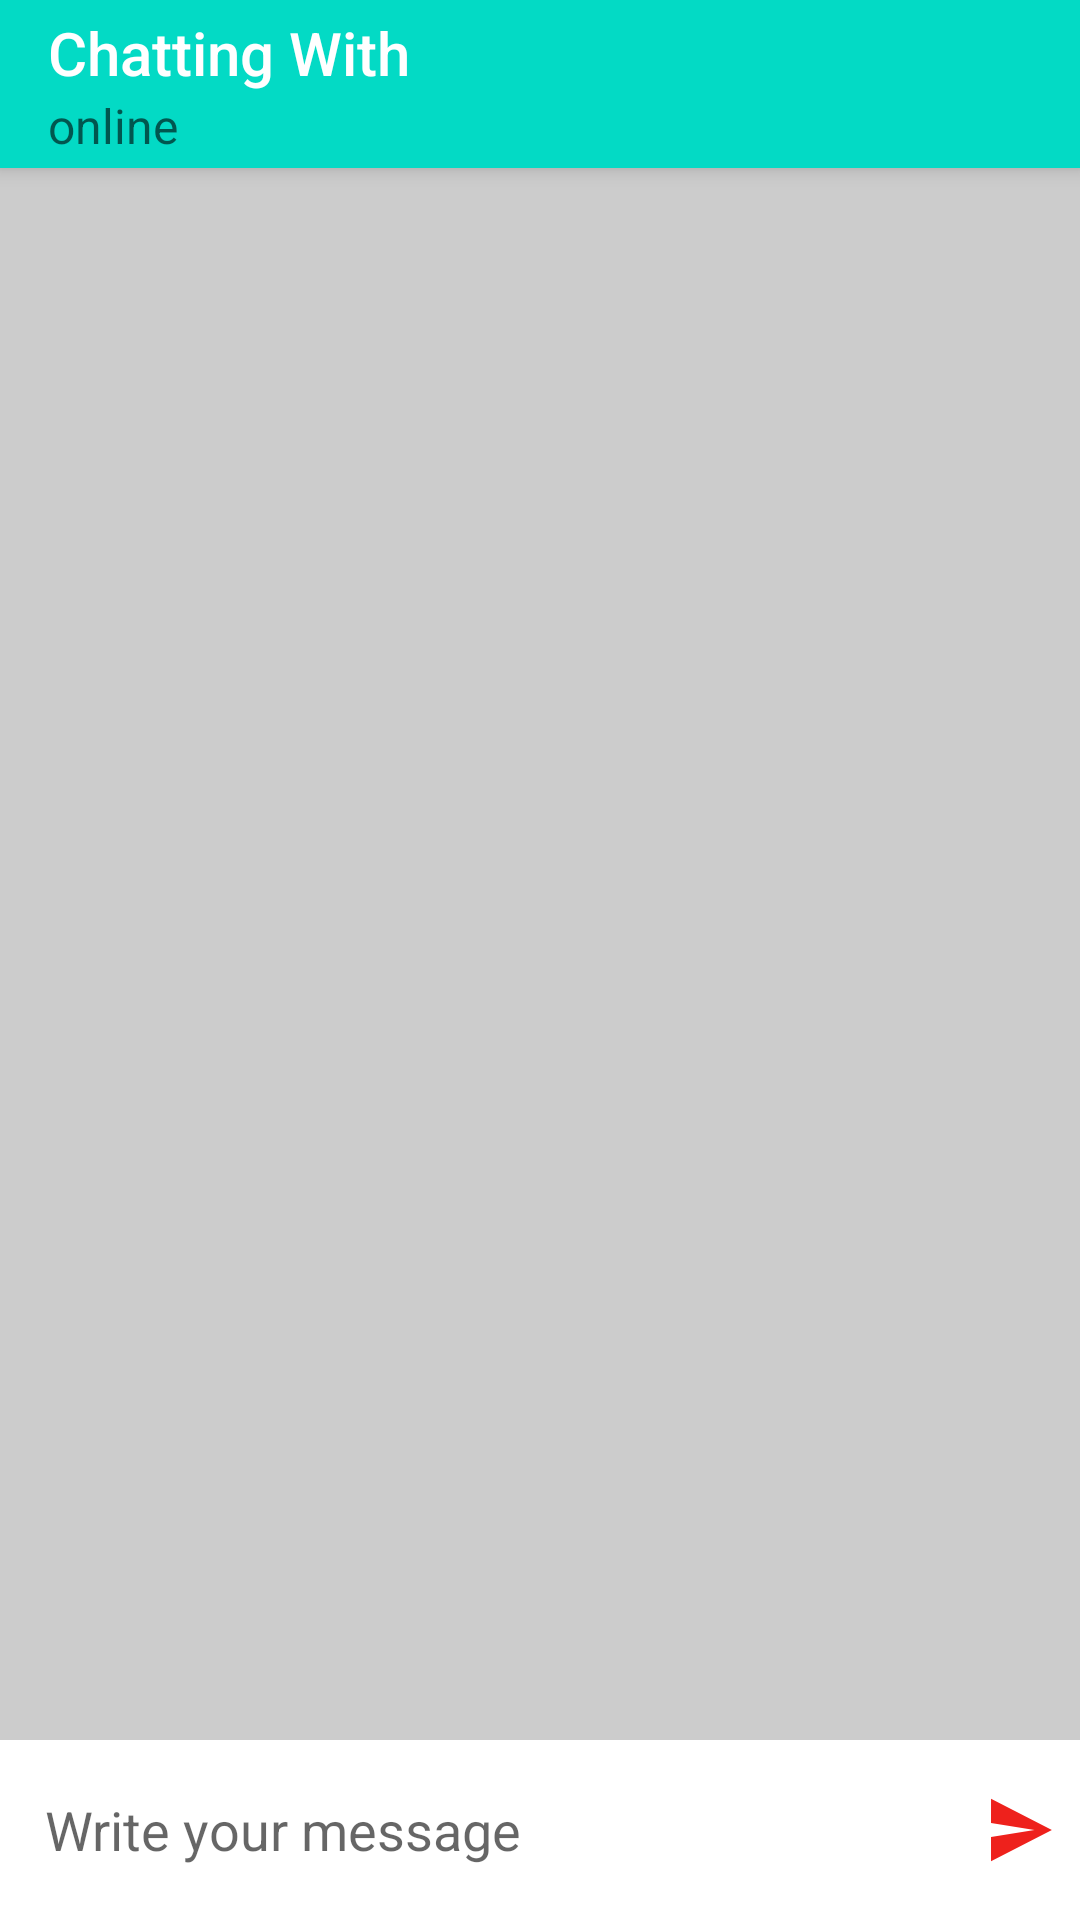

Screen size 1080*1920. Icon name, then its box in pixels as {"left": x1, "top": y1, "right": x2, "bottom": y2}:
send layer: {"left": 991, "top": 1799, "right": 1052, "bottom": 1861}
